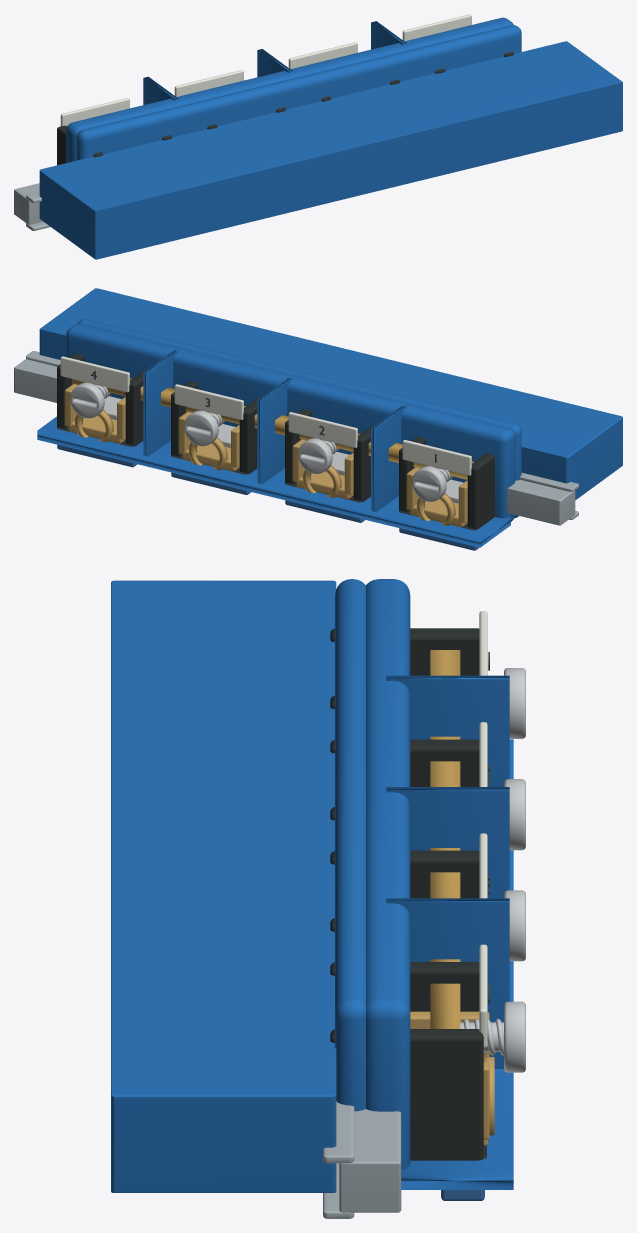
The model's file is neutralbar_default.glb.
The picture shows the model from 3 angles, top to bottom: view 1: azimuth 30°, elevation 25°; view 2: azimuth 150°, elevation 25°; view 3: azimuth 270°, elevation 25°; orthographic projection. The views are drawn at different scales.
Visible parts, largest first — view 1: part:body, part:terminals · Original 7cfa2338, part:mounting · Original 2a8198d3, Moulded terminal legend pad, Moulded terminal legend pad.003, Moulded terminal legend pad.001, Moulded terminal legend pad.002, detail:terminal-clamp:1 · Detail moulded engineering polymer; view 2: part:terminals · Original 7cfa2338, part:body, part:mounting · Original 2a8198d3, detail:terminal-clamp:1 · Detail moulded engineering polymer, detail:terminal-clamp:3 · Detail moulded engineering polymer, detail:terminal-clamp:4 · Detail moulded engineering polymer, detail:terminal-clamp:2 · Detail moulded engineering polymer, detail:terminal-clamp:2 · Detail machined brass, detail:terminal-clamp:1 · Detail machined brass, detail:terminal-clamp:4 · Detail machined brass, detail:terminal-clamp:3 · Detail machined brass, Moulded terminal legend pad (+12 smaller); view 3: part:body, part:terminals · Original 7cfa2338, detail:terminal-clamp:4 · Detail moulded engineering polymer, part:mounting · Original 2a8198d3, part:terminals.001, detail:terminal-clamp:3 · Detail moulded engineering polymer, detail:terminal-clamp:2 · Detail moulded engineering polymer, detail:terminal-clamp:1 · Detail moulded engineering polymer, detail:terminal-clamp:4 · Detail zinc plated fixing, detail:terminal-clamp:4 · Detail machined brass, detail:terminal-clamp:3 · Detail zinc plated fixing, detail:terminal-clamp:2 · Detail zinc plated fixing (+2 smaller).
Part boxes in pixels (box(x1,y1,x2,y2)): part:body: box(39, 41, 622, 259); part:terminals · Original 7cfa2338: box(66, 17, 521, 162); part:mounting · Original 2a8198d3: box(14, 183, 50, 230); Moulded terminal legend pad: box(60, 98, 129, 126); Moulded terminal legend pad.003: box(402, 14, 471, 41); Moulded terminal legend pad.001: box(174, 70, 243, 96); Moulded terminal legend pad.002: box(288, 42, 357, 69); detail:terminal-clamp:1 · Detail moulded engineering polymer: box(57, 125, 171, 165); part:terminals · Original 7cfa2338: box(37, 319, 521, 547); part:body: box(39, 288, 622, 500); part:mounting · Original 2a8198d3: box(14, 351, 578, 525); detail:terminal-clamp:1 · Detail moulded engineering polymer: box(399, 436, 494, 530); detail:terminal-clamp:3 · Detail moulded engineering polymer: box(171, 381, 259, 474); detail:terminal-clamp:4 · Detail moulded engineering polymer: box(57, 353, 145, 446); detail:terminal-clamp:2 · Detail moulded engineering polymer: box(285, 408, 373, 502); detail:terminal-clamp:2 · Detail machined brass: box(292, 439, 353, 499); detail:terminal-clamp:1 · Detail machined brass: box(406, 467, 467, 526); detail:terminal-clamp:4 · Detail machined brass: box(64, 384, 125, 443); detail:terminal-clamp:3 · Detail machined brass: box(178, 411, 239, 471); Moulded terminal legend pad: box(402, 440, 471, 475); part:body: box(111, 580, 336, 1192); part:terminals · Original 7cfa2338: box(335, 579, 513, 1189); detail:terminal-clamp:4 · Detail moulded engineering polymer: box(330, 962, 486, 1160); part:mounting · Original 2a8198d3: box(323, 1101, 401, 1218); part:terminals.001: box(430, 650, 460, 1028); detail:terminal-clamp:3 · Detail moulded engineering polymer: box(330, 850, 479, 931); detail:terminal-clamp:2 · Detail moulded engineering polymer: box(330, 739, 479, 820); detail:terminal-clamp:1 · Detail moulded engineering polymer: box(330, 628, 479, 709); detail:terminal-clamp:4 · Detail zinc plated fixing: box(460, 1001, 525, 1072); detail:terminal-clamp:4 · Detail machined brass: box(410, 1011, 494, 1146); detail:terminal-clamp:3 · Detail zinc plated fixing: box(504, 890, 525, 961); detail:terminal-clamp:2 · Detail zinc plated fixing: box(504, 779, 525, 850).
Bounding box in the file's own units: 0.9231 × 0.168 × 0.3032.
